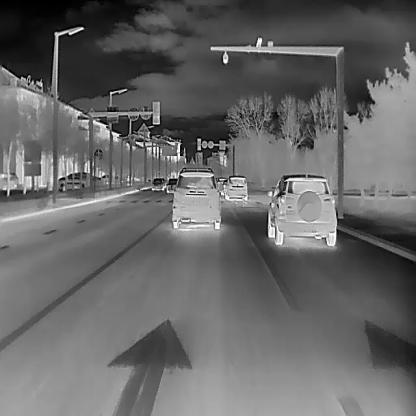car: (266, 172, 336, 246), (171, 165, 220, 228), (57, 171, 100, 189), (224, 174, 247, 200), (0, 172, 18, 190), (165, 176, 179, 192), (216, 177, 227, 193), (151, 177, 164, 189)
